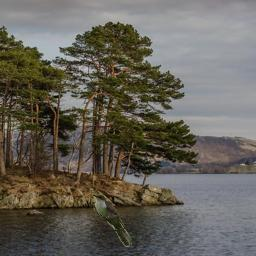Cuckoo: (91, 193, 132, 247)
